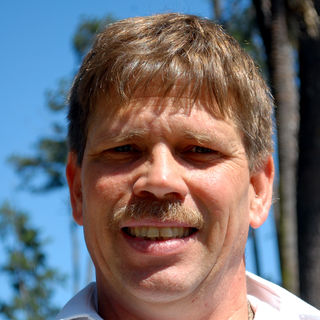eye: (178, 141, 226, 164), (102, 140, 147, 163)
